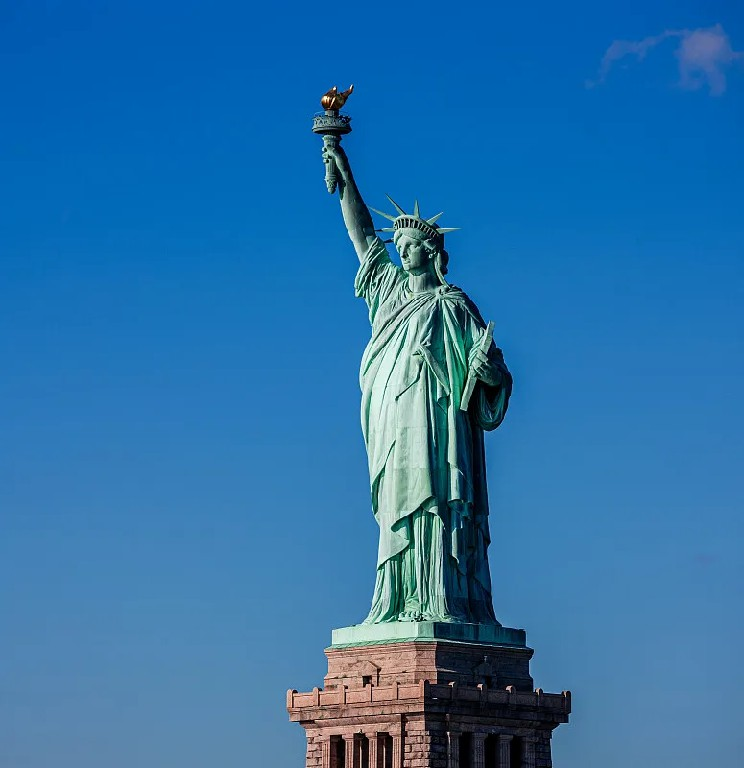SL: (286, 83, 571, 768)
